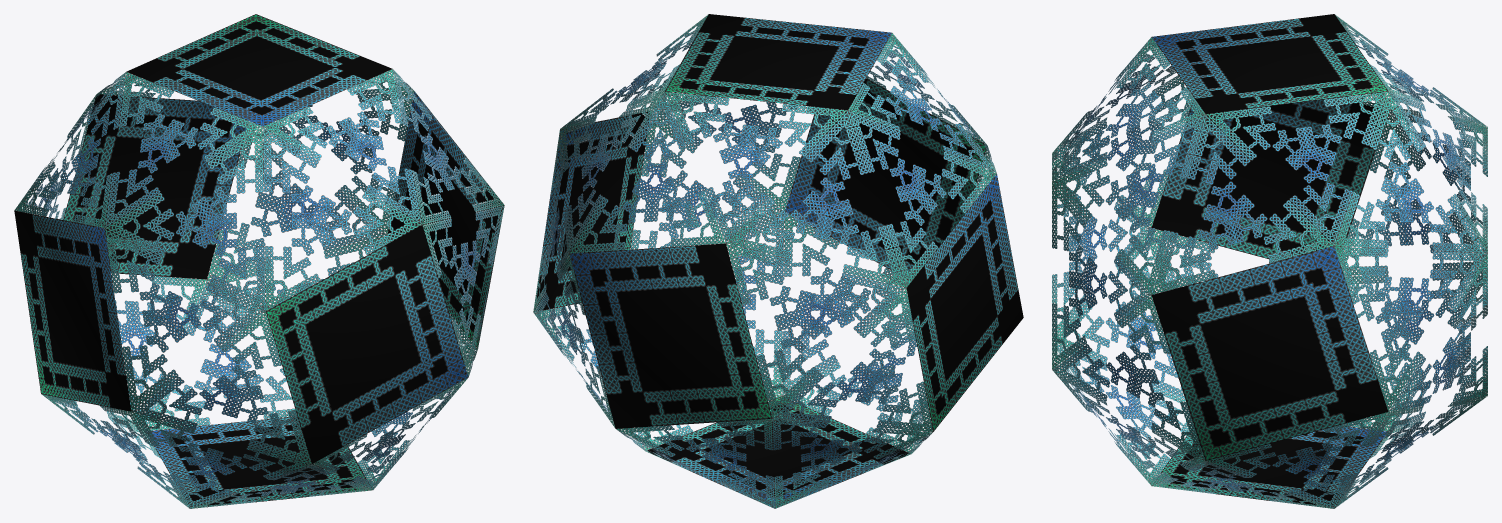
The model's file is 22SnubCube.gltf.
3 views of the same model, side by side, from view 1: azimuth 30°, elevation 25°; view 2: azimuth 150°, elevation 25°; view 3: azimuth 270°, elevation 25° (orthographic).
Parts seen in each view (by area): view 1: 22SnubCube; view 2: 22SnubCube; view 3: 22SnubCube.
Part boxes in pixels (x1,y1,x2,y2): 22SnubCube: [14, 14, 504, 508]; 22SnubCube: [533, 14, 1023, 508]; 22SnubCube: [1052, 14, 1487, 508].
Size of the model in its own units: 2.29 by 2.29 by 2.29.
2 materials, 2 textured.
